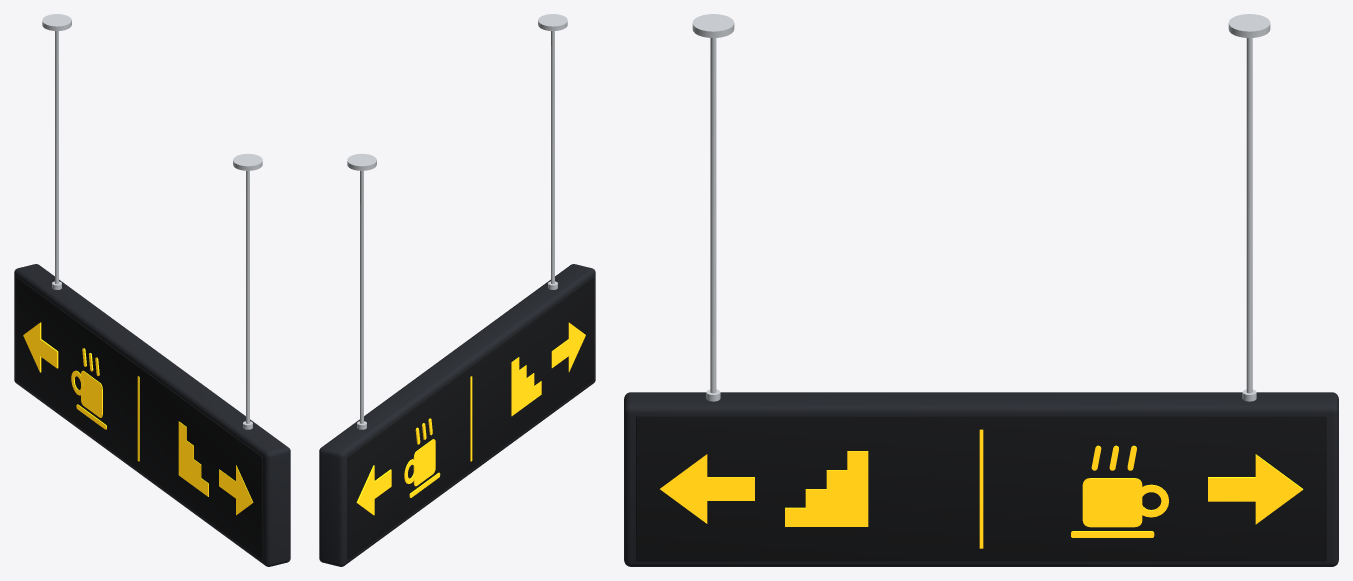
The model's file is hanging-arrow-sign.glb.
The picture shows the model from 3 angles, left to right: view 1: azimuth 30°, elevation 25°; view 2: azimuth 150°, elevation 25°; view 3: azimuth 270°, elevation 25°; orthographic projection. The views are drawn at different scales.
Parts seen in each view (by area): view 1: Hanging_Arrow_Sign; view 2: Hanging_Arrow_Sign; view 3: Hanging_Arrow_Sign.
Boxes of the visible parts, x1=… form: Hanging_Arrow_Sign: x1=14, y1=14, x2=290, y2=566; Hanging_Arrow_Sign: x1=319, y1=14, x2=595, y2=566; Hanging_Arrow_Sign: x1=624, y1=14, x2=1338, y2=566.
Size of the model in its own units: 0.0809 by 0.996 by 1.2.
